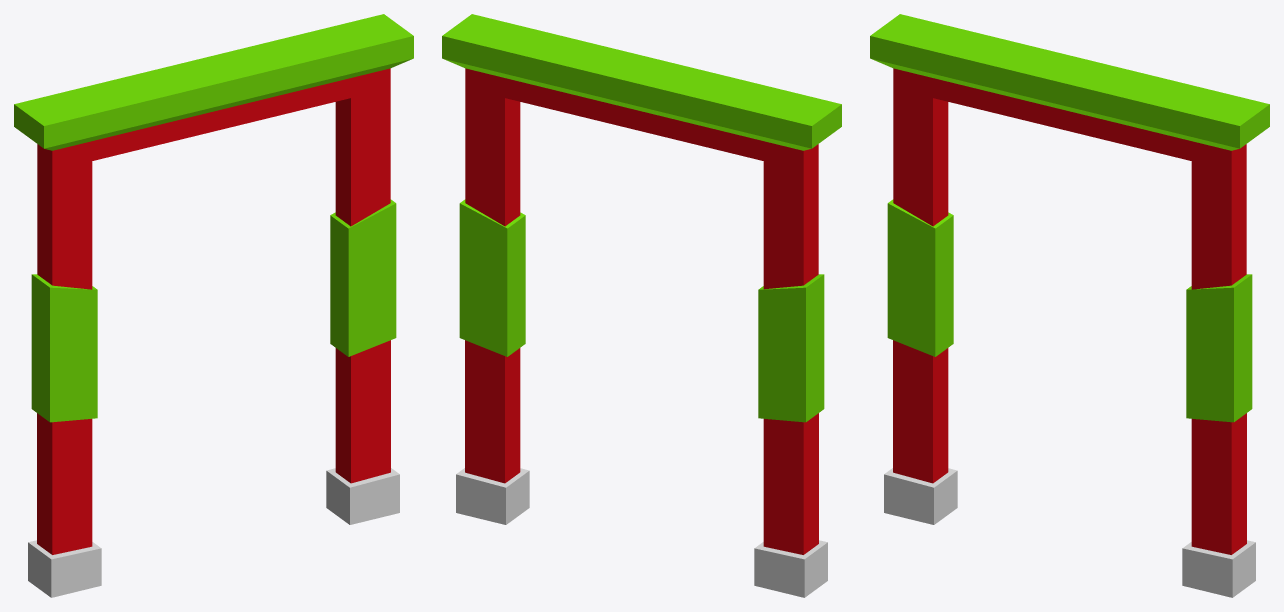
The model's file is DeurPost - LOs.fbx.
3 renders of one model, left to right at view 1: azimuth 30°, elevation 25°; view 2: azimuth 150°, elevation 25°; view 3: azimuth 330°, elevation 25°, orthographic.
Visible parts, largest first — view 1: DeurPost- Vrijstaand; view 2: DeurPost- Vrijstaand; view 3: DeurPost- Vrijstaand.
Boxes of the visible parts, x1,y1,x2,y2 form: DeurPost- Vrijstaand: [14, 14, 413, 597]; DeurPost- Vrijstaand: [442, 14, 841, 597]; DeurPost- Vrijstaand: [870, 14, 1269, 597].
Size of the model in its own units: 3.89 by 4.79 by 0.5453.
